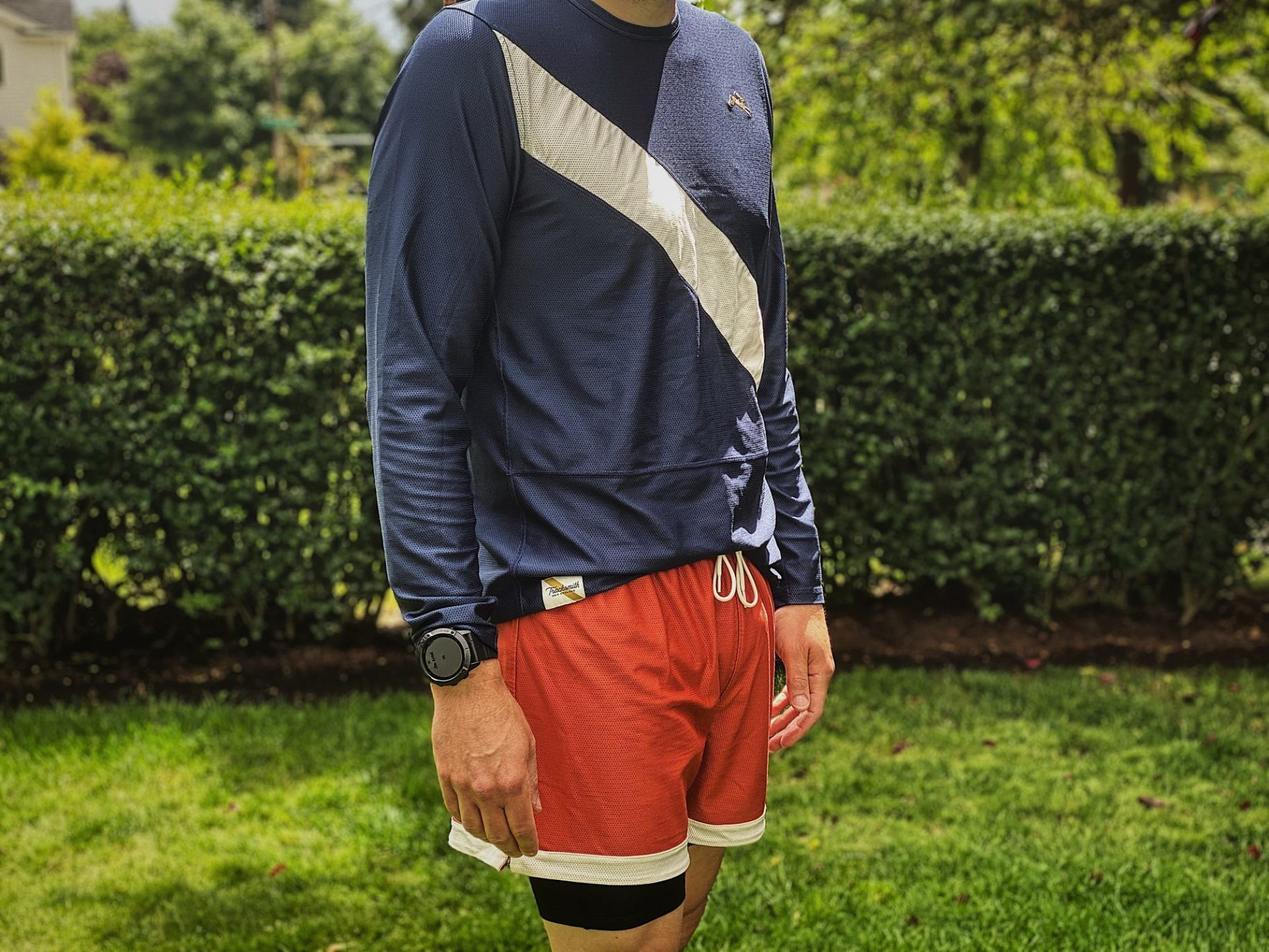egg: (127, 95, 1142, 856)
